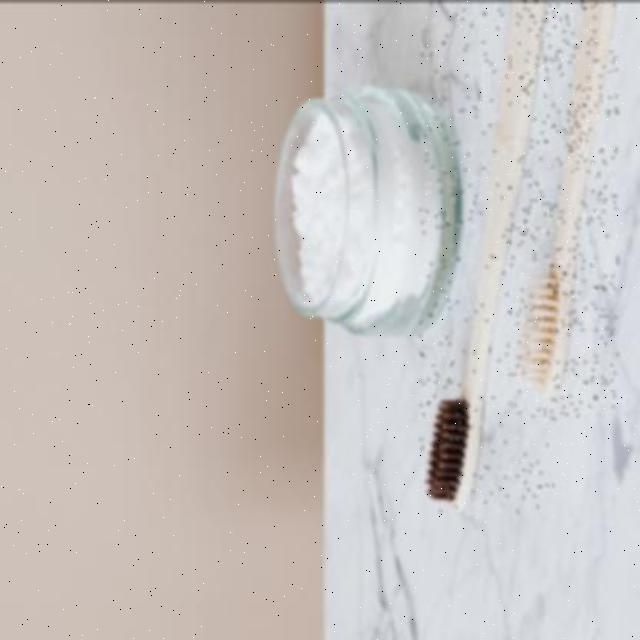toothbrush: (420, 1, 556, 514), (518, 1, 618, 416)
